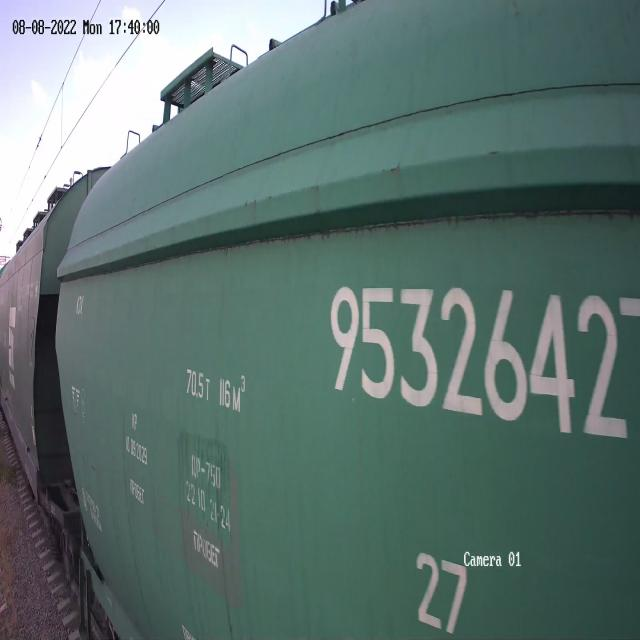hopper: (51, 0, 640, 640), (0, 142, 111, 550)
